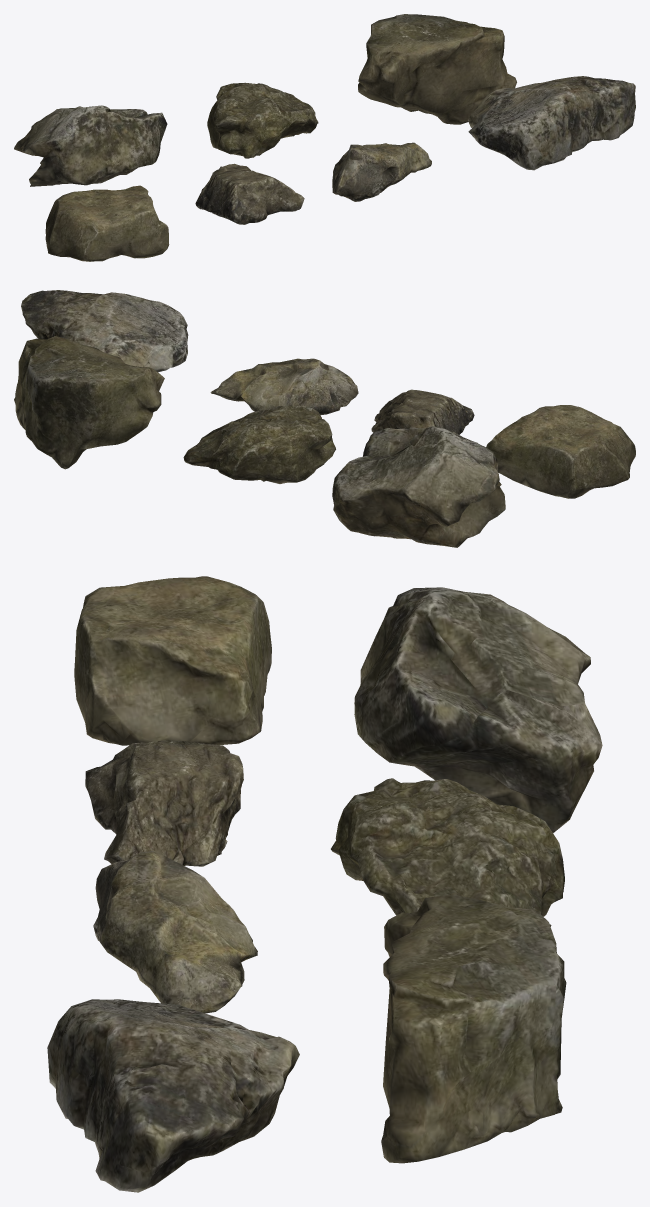
The model's file is rock_moss_set_02.glb.
The picture shows the model from 3 angles, top to bottom: view 1: azimuth 30°, elevation 25°; view 2: azimuth 150°, elevation 25°; view 3: azimuth 270°, elevation 25°; orthographic projection. The views are drawn at different scales.
Visible parts, largest first — view 1: rock_moss_set_02_rock13, rock_moss_set_02_rock10, rock_moss_set_02_rock11, rock_moss_set_02_rock07, rock_moss_set_02_rock12, rock_moss_set_02_rock08, rock_moss_set_02_rock09; view 2: rock_moss_set_02_rock11, rock_moss_set_02_rock13, rock_moss_set_02_rock07, rock_moss_set_02_rock10, rock_moss_set_02_rock12, rock_moss_set_02_rock09, rock_moss_set_02_rock08; view 3: rock_moss_set_02_rock13, rock_moss_set_02_rock11, rock_moss_set_02_rock10, rock_moss_set_02_rock07, rock_moss_set_02_rock12, rock_moss_set_02_rock09, rock_moss_set_02_rock08.
Part boxes in pixels (x1=…): rock_moss_set_02_rock13: x1=358, y1=14, x2=516, y2=124; rock_moss_set_02_rock10: x1=468, y1=76, x2=635, y2=170; rock_moss_set_02_rock11: x1=14, y1=105, x2=167, y2=186; rock_moss_set_02_rock07: x1=45, y1=185, x2=169, y2=261; rock_moss_set_02_rock12: x1=207, y1=82, x2=318, y2=158; rock_moss_set_02_rock08: x1=195, y1=163, x2=304, y2=224; rock_moss_set_02_rock09: x1=332, y1=142, x2=431, y2=201; rock_moss_set_02_rock11: x1=332, y1=426, x2=505, y2=547; rock_moss_set_02_rock13: x1=14, y1=336, x2=164, y2=469; rock_moss_set_02_rock07: x1=486, y1=405, x2=635, y2=498; rock_moss_set_02_rock10: x1=21, y1=290, x2=188, y2=372; rock_moss_set_02_rock12: x1=183, y1=406, x2=335, y2=483; rock_moss_set_02_rock09: x1=210, y1=358, x2=358, y2=415; rock_moss_set_02_rock08: x1=371, y1=389, x2=474, y2=434; rock_moss_set_02_rock13: x1=381, y1=894, x2=566, y2=1163; rock_moss_set_02_rock11: x1=354, y1=587, x2=602, y2=832; rock_moss_set_02_rock10: x1=47, y1=999, x2=299, y2=1192; rock_moss_set_02_rock07: x1=74, y1=576, x2=271, y2=745; rock_moss_set_02_rock12: x1=331, y1=778, x2=564, y2=926; rock_moss_set_02_rock09: x1=93, y1=851, x2=257, y2=1013; rock_moss_set_02_rock08: x1=85, y1=740, x2=243, y2=866.
Bounding box in the file's own units: 8.28 × 1.37 × 3.41.
1 material, 1 textured.
